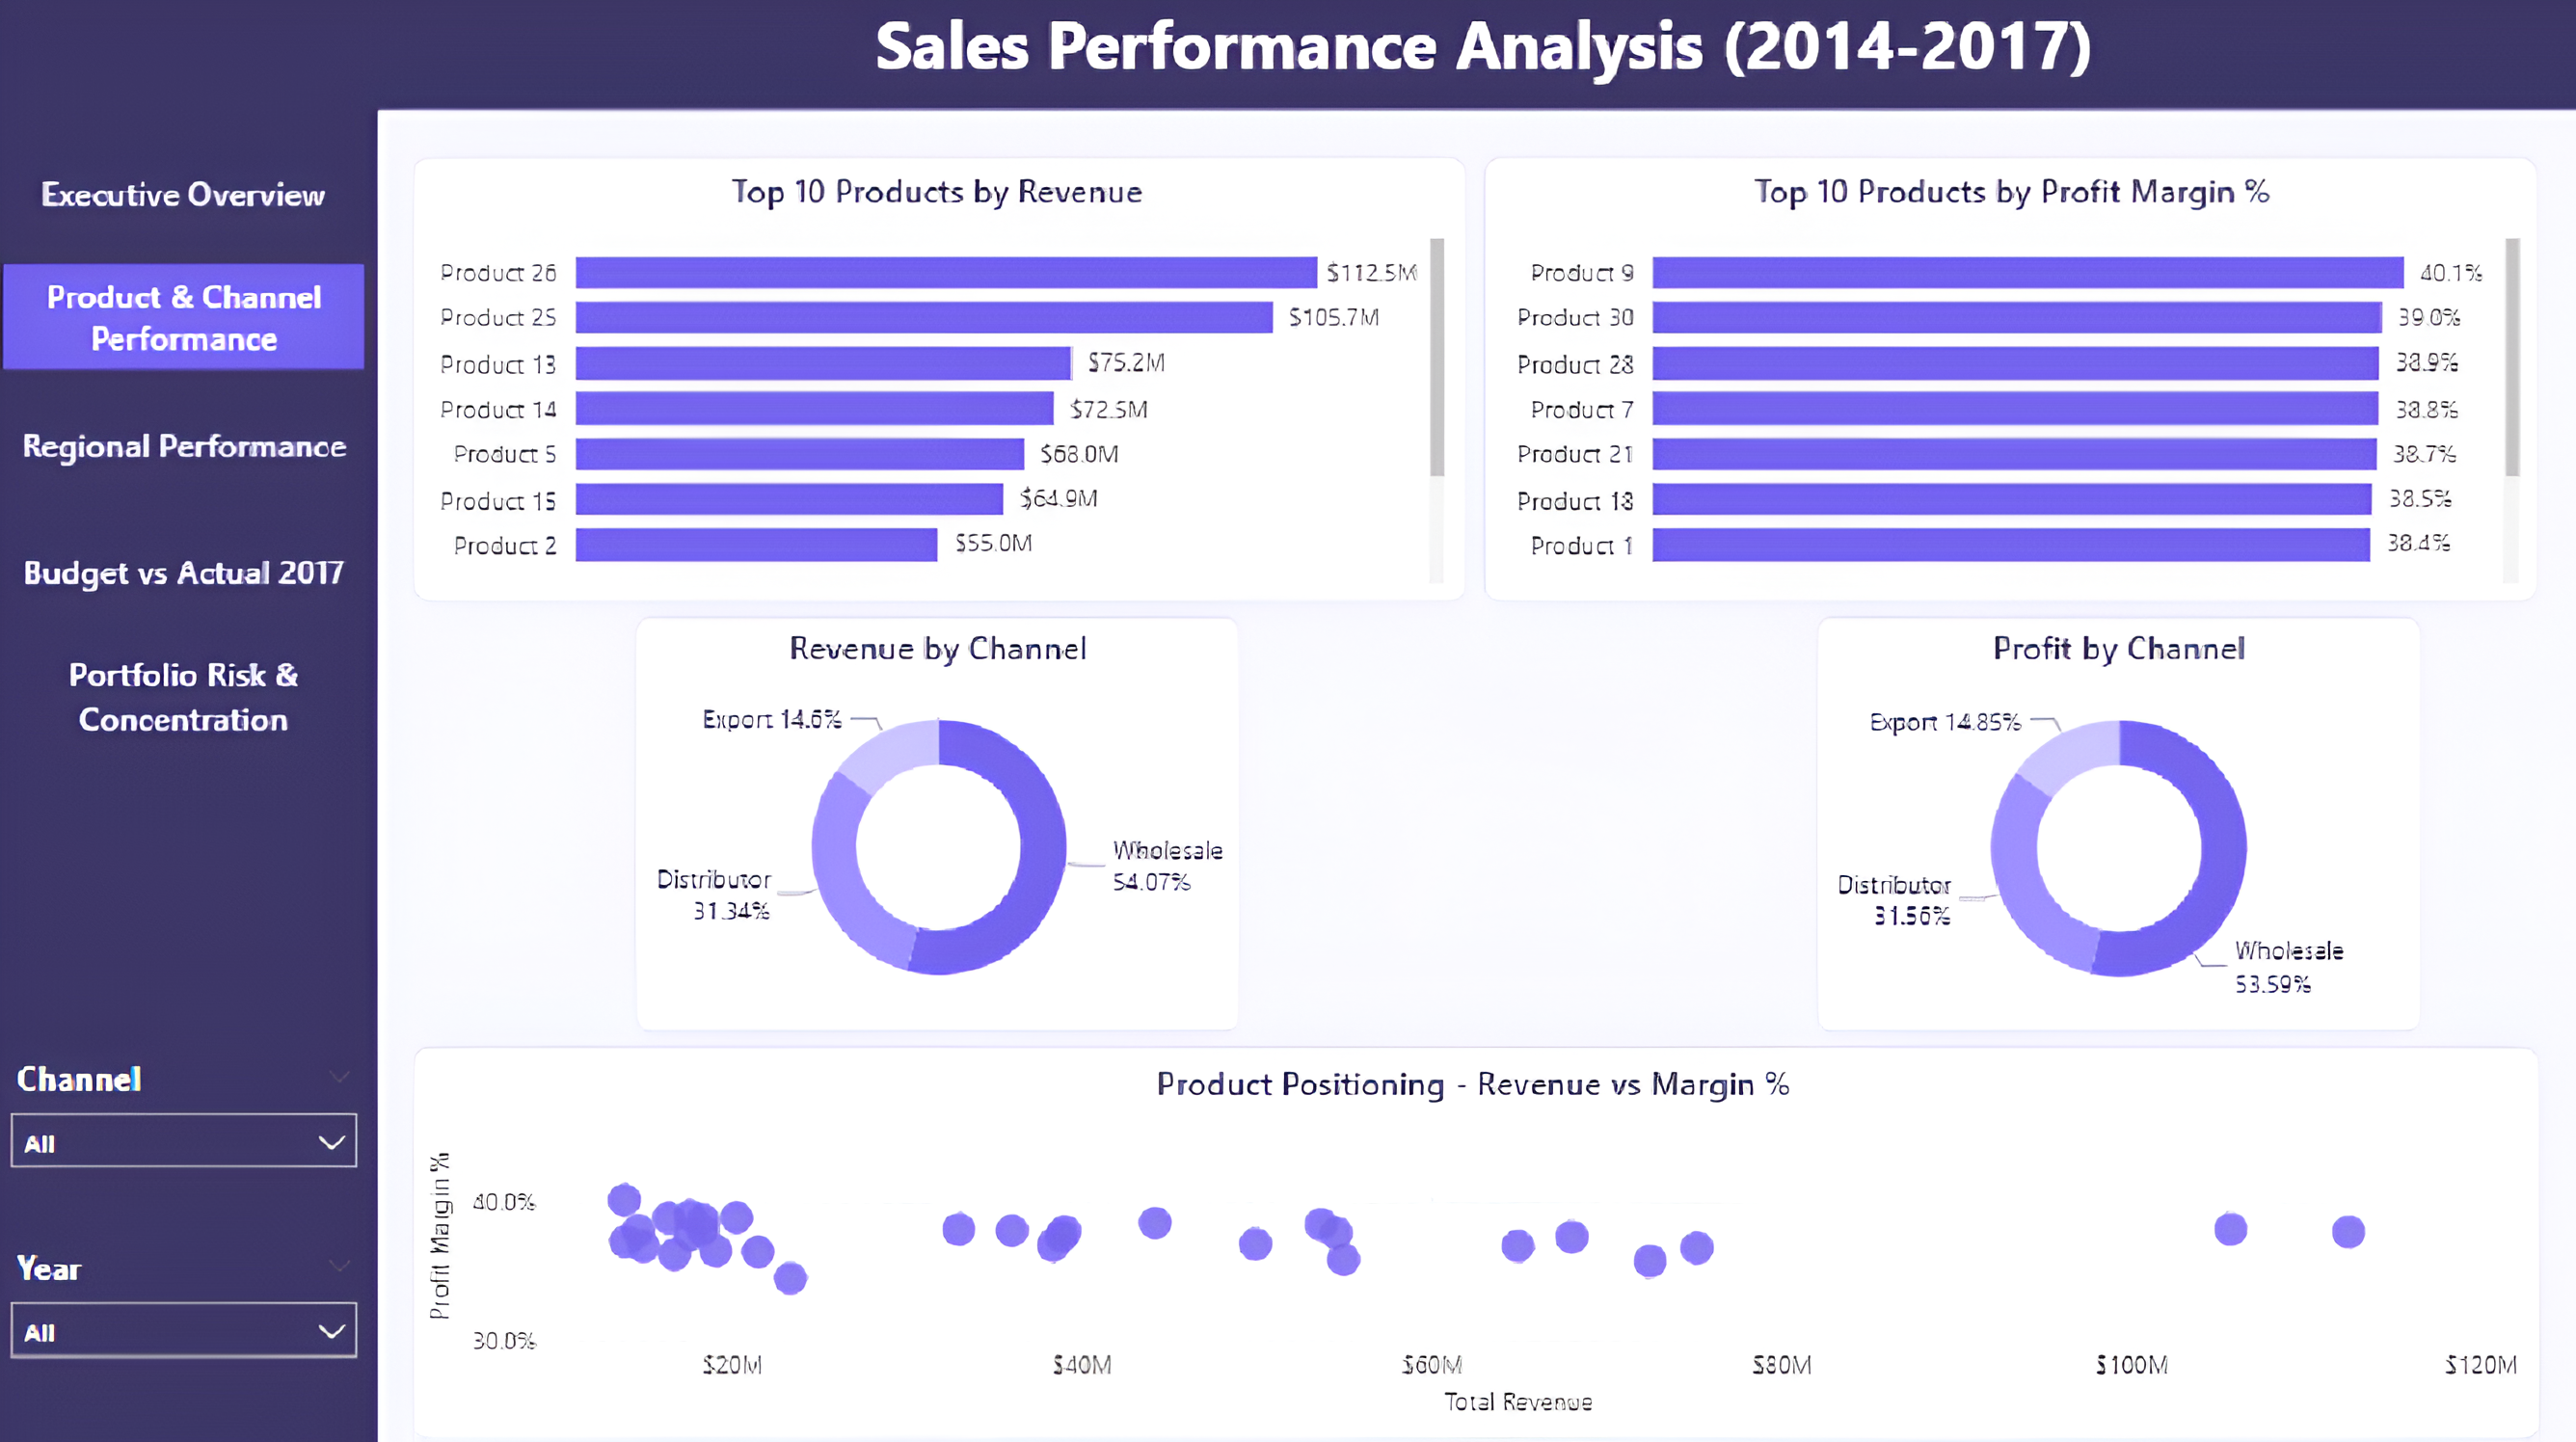

This screenshot's page, from the dashboard's own definition file:
{"tool":"powerbi","page":{"name":" Product & Channel Performance","canvas":[1280,720],"ordinal":1},"visuals":[{"type":"shape","box":[900,308.9,300,205.6],"z":0},{"type":"shape","box":[317.8,308.9,300,205.6],"z":1000},{"type":"shape","box":[207.1,520,1051.4,194.3],"z":2000},{"type":"shape","box":[0,0,1280,60],"z":3000},{"type":"textbox","box":[424.3,0,625.7,58.6],"z":4000},{"type":"shape","box":[207.1,82.4,521.4,220],"z":5000},{"type":"shape","box":[0,59.4,191,659.4],"z":6000},{"type":"slicer","fields":{"Values":["calendar.year"]},"box":[0,612.9,191.4,71.4],"z":7000},{"type":"pageNavigator","box":[7.1,74.1,178.8,304.7],"z":8000},{"type":"clusteredBarChart","title":"Top 10 Products by Revenue","fields":{"Category":["dim_products.product"],"Y":["_measures.Total Revenue"]},"box":[211.4,88.6,511.4,208.6],"z":9000},{"type":"shape","box":[737.1,82.9,521.4,220],"z":10000},{"type":"clusteredBarChart","title":"Top 10 Products by Profit Margin %","fields":{"Y":["_measures.Weighted Margin %"],"Category":["dim_products.product"]},"box":[742.9,88.6,510,208.6],"z":11000},{"type":"donutChart","title":"Revenue by Channel","fields":{"Category":["fact_sales.channel"],"Y":["_measures.Total Revenue"]},"box":[321.1,313.3,293.3,196.7],"z":12000},{"type":"donutChart","title":"Profit by Channel","fields":{"Category":["fact_sales.channel"],"Y":["_measures.Total Profit"]},"box":[904.4,313.3,292.2,197.8],"z":13000},{"type":"scatterChart","title":"Product Positioning - Revenue vs Margin %","fields":{"Category":["dim_products.product"],"X":["_measures.Total Revenue"],"Y":["_measures.Weighted Margin %"]},"box":[211.4,527.1,1041.4,180],"z":14000},{"type":"slicer","fields":{"Values":["fact_sales.channel"]},"box":[0,520,191.4,71.4],"z":15000}]}

Visuals, with their boxes on the page's 1280x720 design canvas (x1, y1, x2, y2). These are canvas units, not pixel positions in the 2576x1442 screenshot, which may show the page scaled, cropped or inside an application window:
shape: bbox=[900, 309, 1200, 514]
shape: bbox=[318, 309, 618, 514]
shape: bbox=[207, 520, 1258, 714]
shape: bbox=[0, 0, 1280, 60]
textbox: bbox=[424, 0, 1050, 59]
shape: bbox=[207, 82, 728, 302]
shape: bbox=[0, 59, 191, 719]
slicer - calendar.year: bbox=[0, 613, 191, 684]
pageNavigator: bbox=[7, 74, 186, 379]
"Top 10 Products by Revenue" clusteredBarChart: bbox=[211, 89, 723, 297]
shape: bbox=[737, 83, 1258, 303]
"Top 10 Products by Profit Margin %" clusteredBarChart: bbox=[743, 89, 1253, 297]
"Revenue by Channel" donutChart: bbox=[321, 313, 614, 510]
"Profit by Channel" donutChart: bbox=[904, 313, 1197, 511]
"Product Positioning - Revenue vs Margin %" scatterChart: bbox=[211, 527, 1253, 707]
slicer - fact_sales.channel: bbox=[0, 520, 191, 591]
